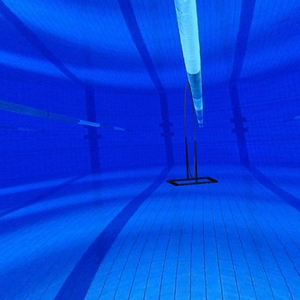circle: (165, 82, 222, 190)
